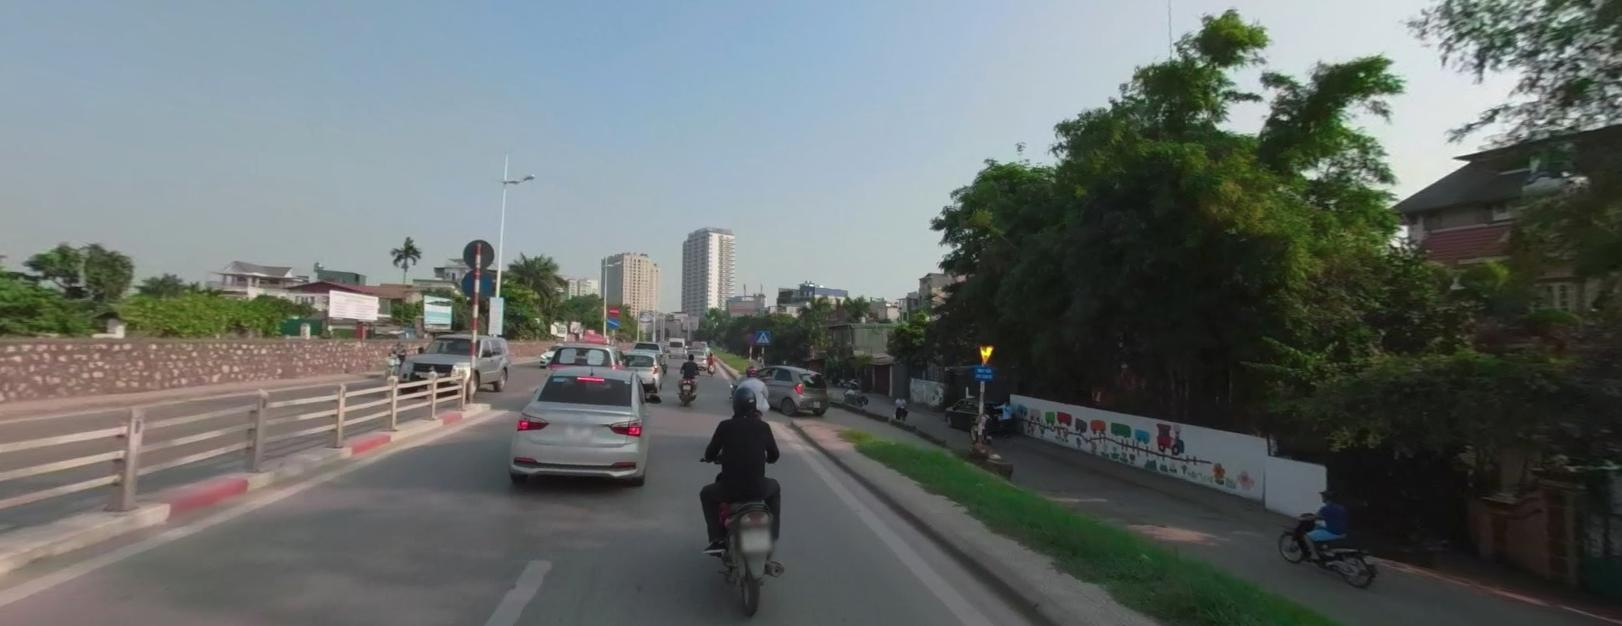Cam nguoc chieu: (607, 303, 619, 314)
Hieu lenh: (605, 314, 618, 327)
Nguy hiem: (978, 341, 995, 362)
